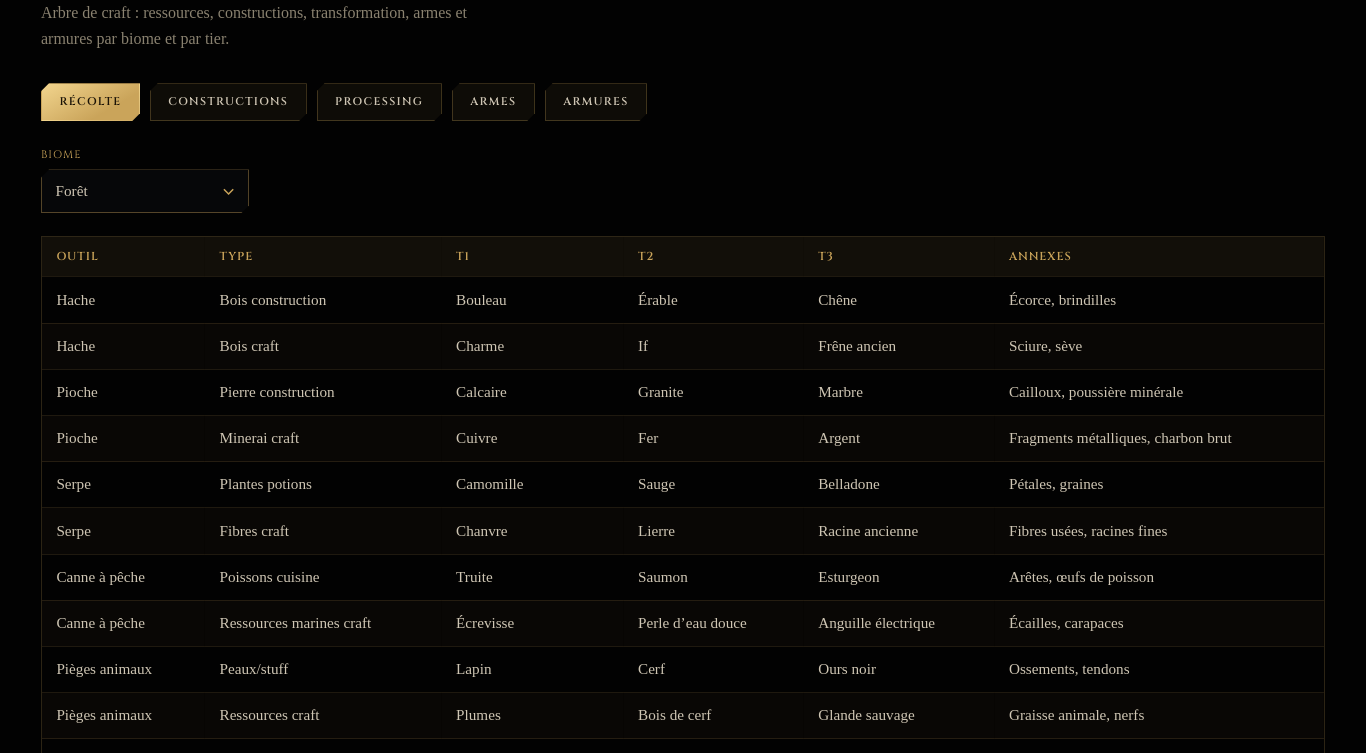
CraftTree › armures : 8 colonnes (sans « Qté base »/« Qté biome suppl. ») et sans « bonus »
Step 1. Click the tab with class "craft__tab" showing "Armures" → coordinates (596, 102), box left=545, top=83, right=647, bottom=121
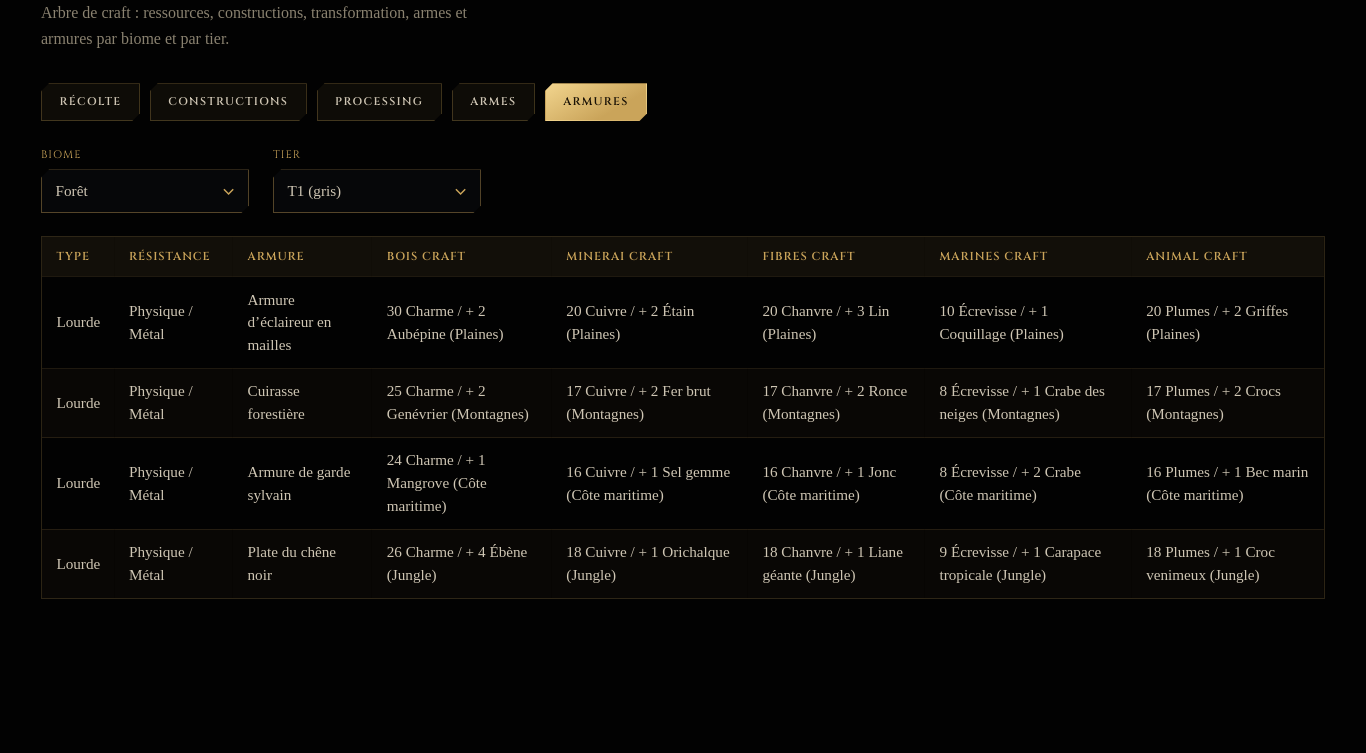
Check: the number of column headings is 8
